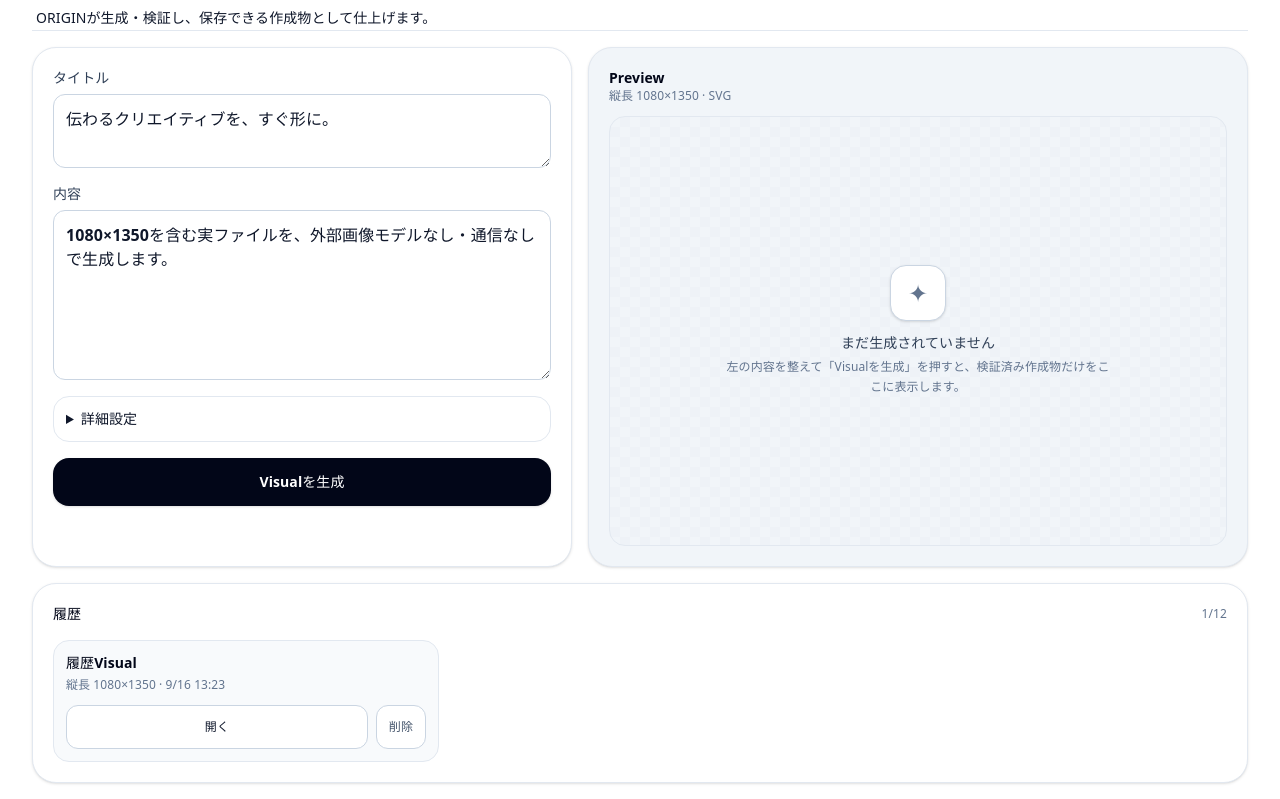
Test: CreativeWorkspaceV15 › deletes a local-history entry without affecting current generation capability
(page scrolled)
Click the button with aria-label "履歴から削除: 履歴Visual" at (401, 727), box [376, 705, 426, 749]
(page scrolled)
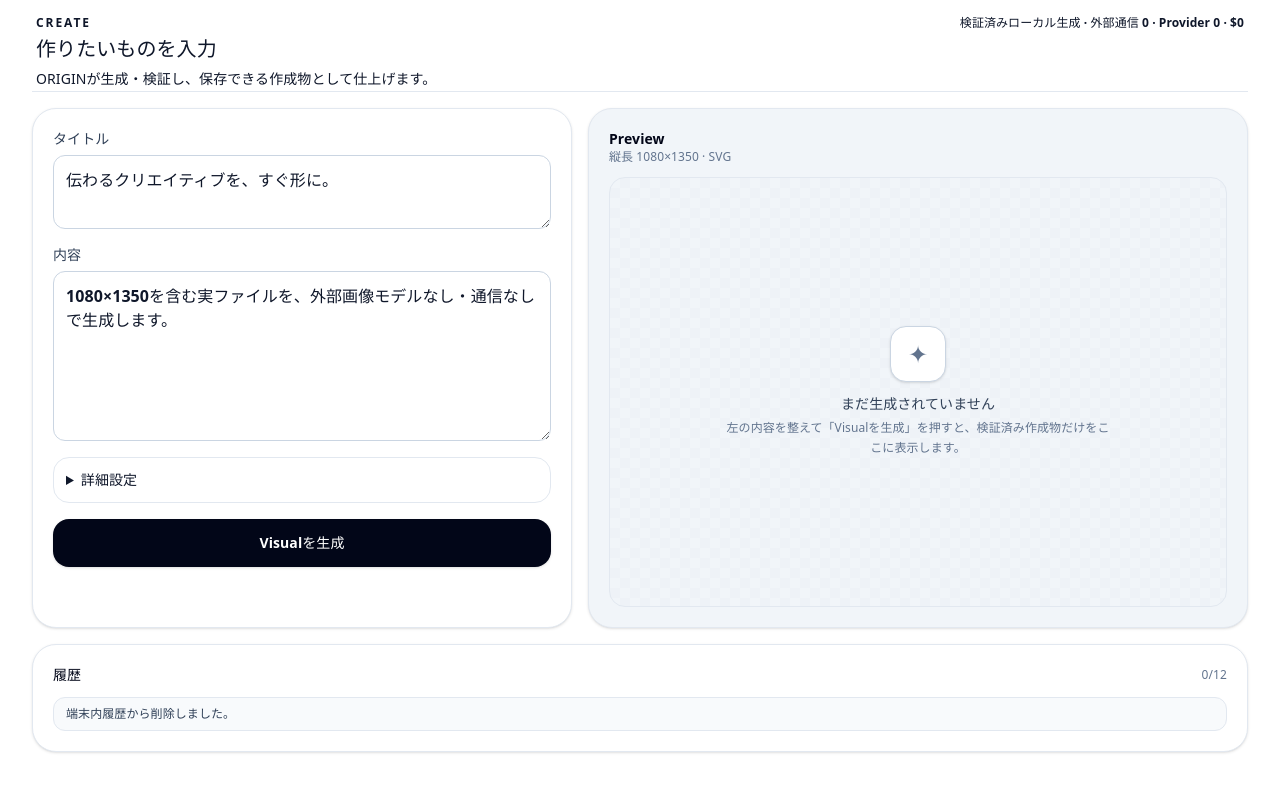
Expected: the button "Visualを生成" is enabled, [53, 519, 551, 567]
Now the text "端末内履歴から削除しました。" is shown, box [53, 697, 1227, 731]
Now the text "履歴を開く: 履歴Visual" is gone
